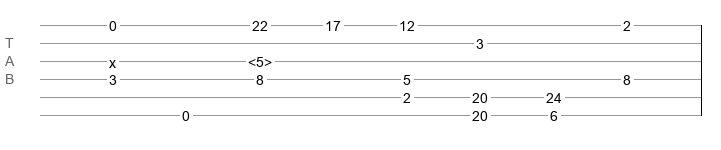0: (109, 18, 117, 28), (182, 108, 190, 118)
12: (399, 18, 415, 28)
17: (325, 18, 341, 28)
2: (403, 90, 411, 100), (623, 18, 631, 28)
20: (472, 108, 488, 118), (472, 90, 488, 100)
22: (252, 18, 268, 28)
24: (546, 90, 562, 100)
3: (109, 72, 117, 82), (476, 36, 484, 46)
5: (403, 72, 411, 82)
6: (550, 108, 558, 118)
8: (256, 72, 264, 82), (623, 72, 631, 82)
harmonic: (248, 54, 272, 64)
x: (109, 55, 116, 63)
